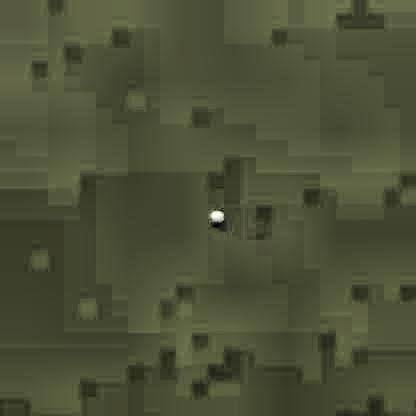golfball: (206, 206, 223, 224)
